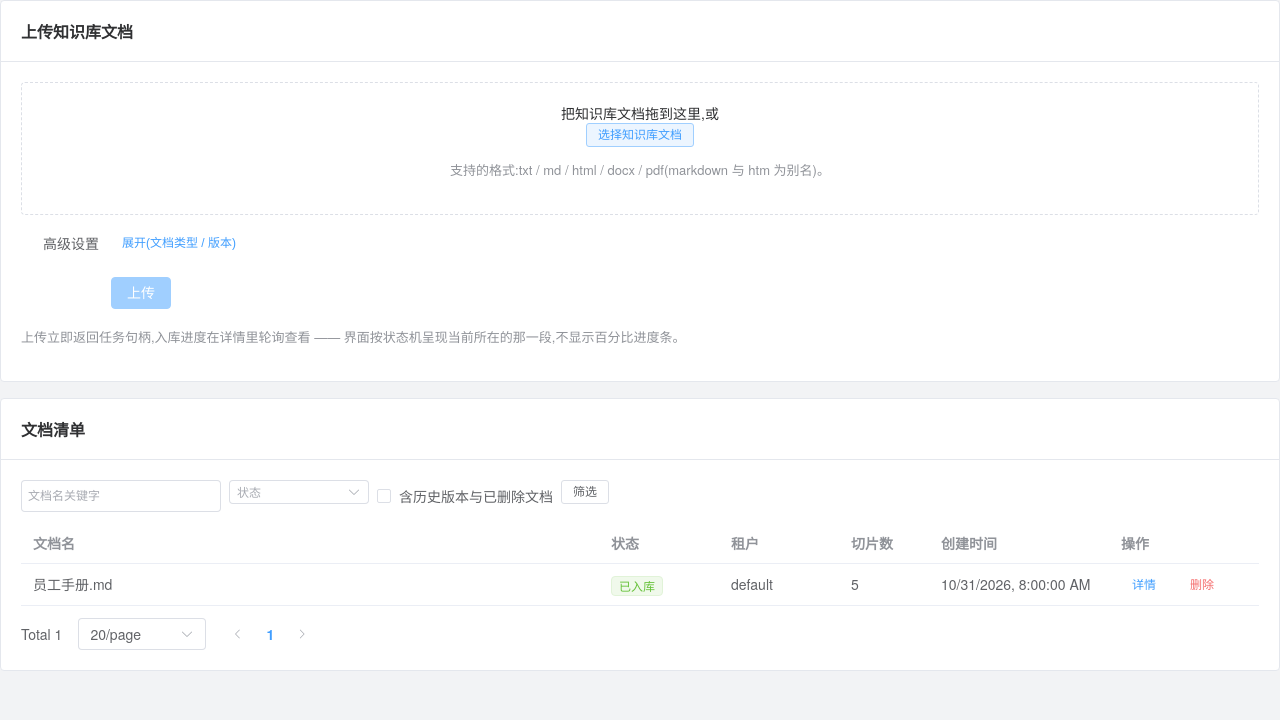
Scenario: 知识库文档页组件行为 › 入库进度 › 按状态机呈现当前所在的那一段
Expected: the row "员工手册.md 已入库 default 5 10/31/2026, 8:00:00 AM 详情 删除" is shown, [21, 564, 1259, 606]
Click the button with test id "documents-detail-doc-1": (1144, 585) [1121, 573, 1167, 597]
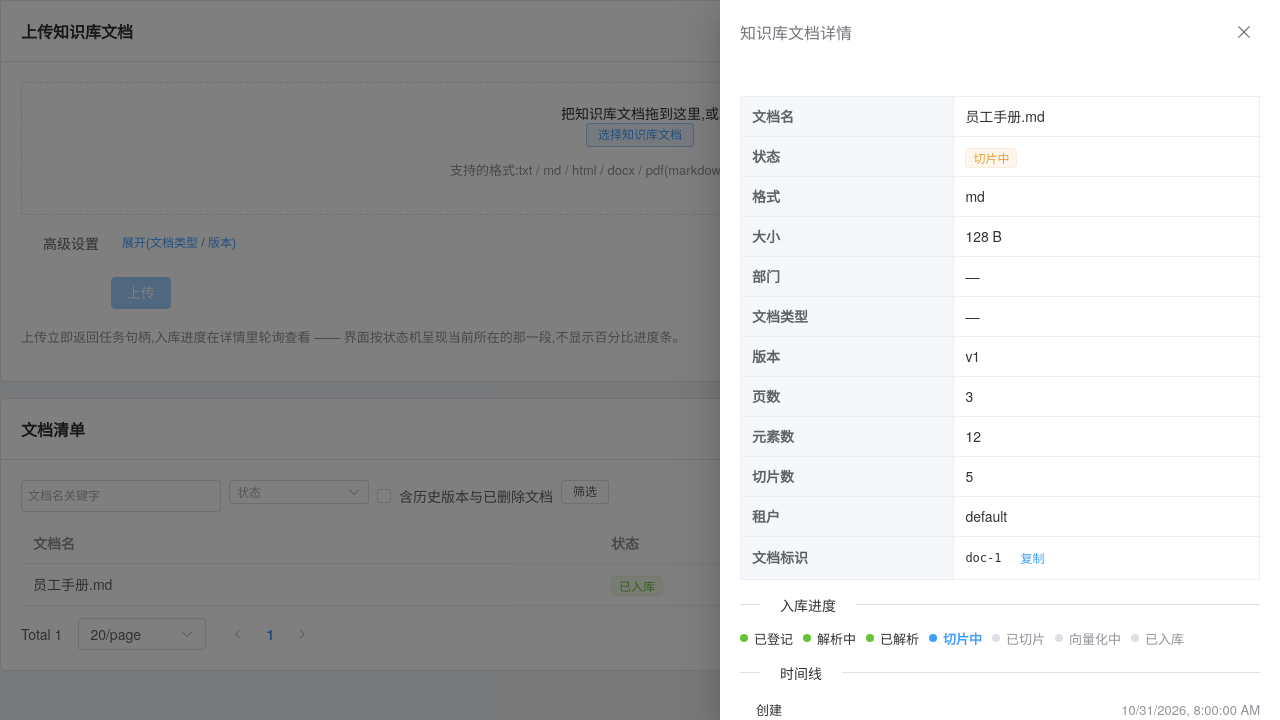
Result: the element with test id "documents-progress" is shown at [740, 629, 1260, 648]
Result: the element with test id "documents-progress" shows "已登记" at [754, 629, 793, 648]
Result: the element with test id "documents-progress" shows "解析中" at [817, 629, 856, 648]
